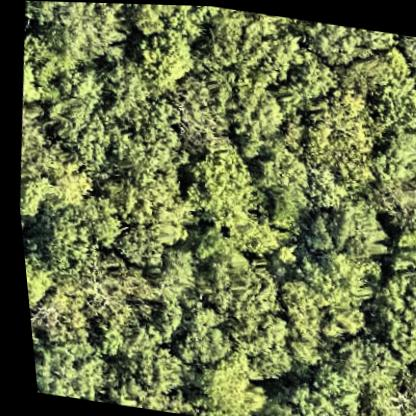tree-top: (88, 112, 191, 246), (147, 223, 283, 318), (278, 332, 404, 416), (288, 82, 378, 180), (201, 5, 306, 86), (51, 244, 151, 328), (274, 257, 371, 342), (358, 231, 416, 362), (178, 138, 260, 227), (100, 329, 183, 410), (25, 1, 129, 63), (124, 10, 201, 93), (25, 325, 107, 402), (155, 66, 234, 145), (313, 189, 389, 265), (179, 349, 265, 416), (241, 142, 309, 226), (359, 64, 416, 162), (302, 18, 403, 71), (215, 72, 288, 144), (163, 297, 230, 368), (14, 25, 73, 105), (219, 312, 289, 379), (42, 95, 111, 162), (26, 201, 93, 262), (216, 215, 280, 260), (19, 246, 54, 317), (386, 345, 416, 416), (13, 170, 49, 221), (249, 390, 303, 416), (264, 239, 295, 266), (393, 30, 416, 62)
